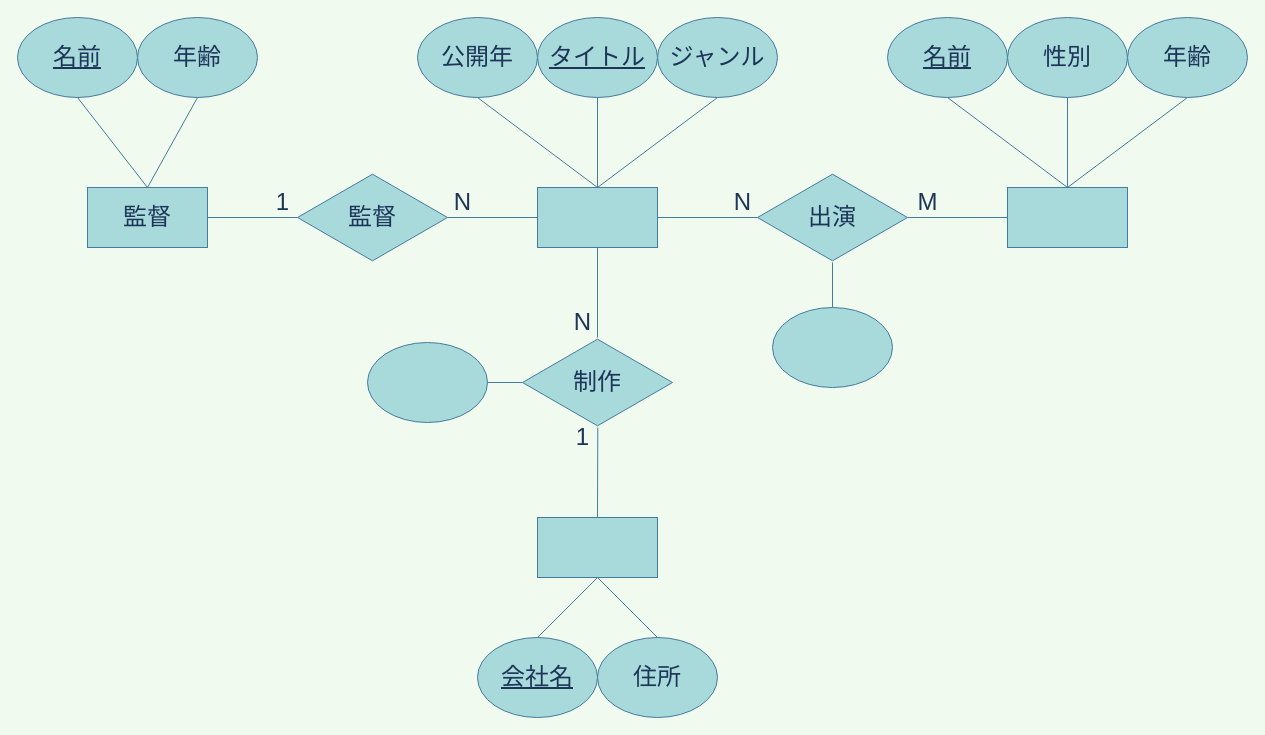
Some shapes in this 1265 by 735 pixel diagram are drawn without their labels. Each missing label, with the centre of its shape:
"会社" goes at point (597, 547).
"俳優" goes at point (1067, 217).
"制作費" goes at point (427, 382).
"役名" goes at point (832, 347).
"映画" goes at point (597, 217).
